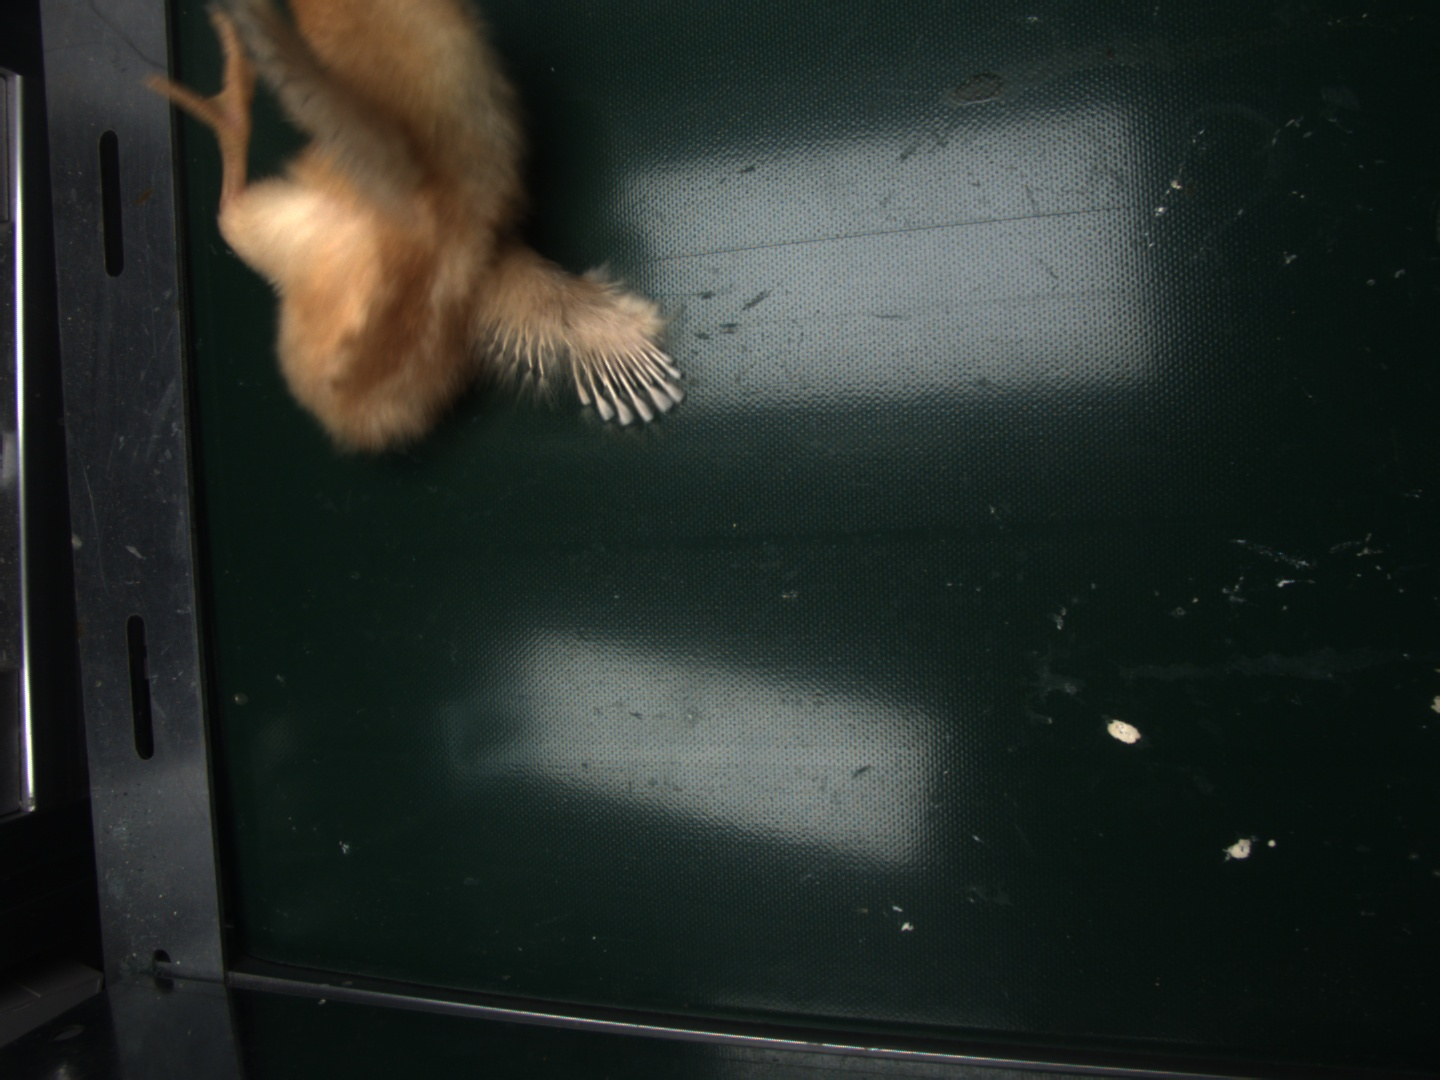female: (576, 340, 685, 423)
